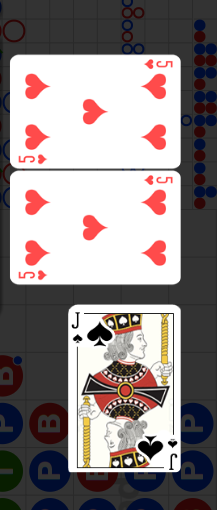5H: (17, 269, 49, 282), (17, 153, 48, 165)
